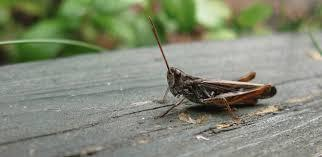Insects: (143, 12, 279, 123)
